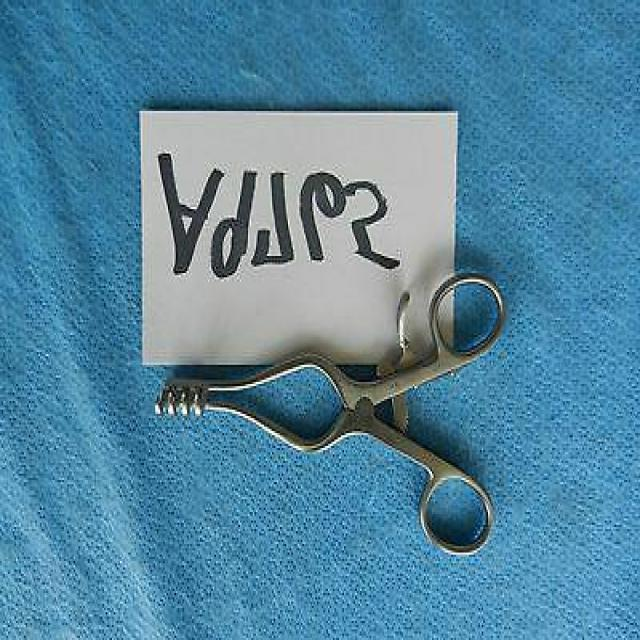Weitlaner: (148, 262, 514, 568)
